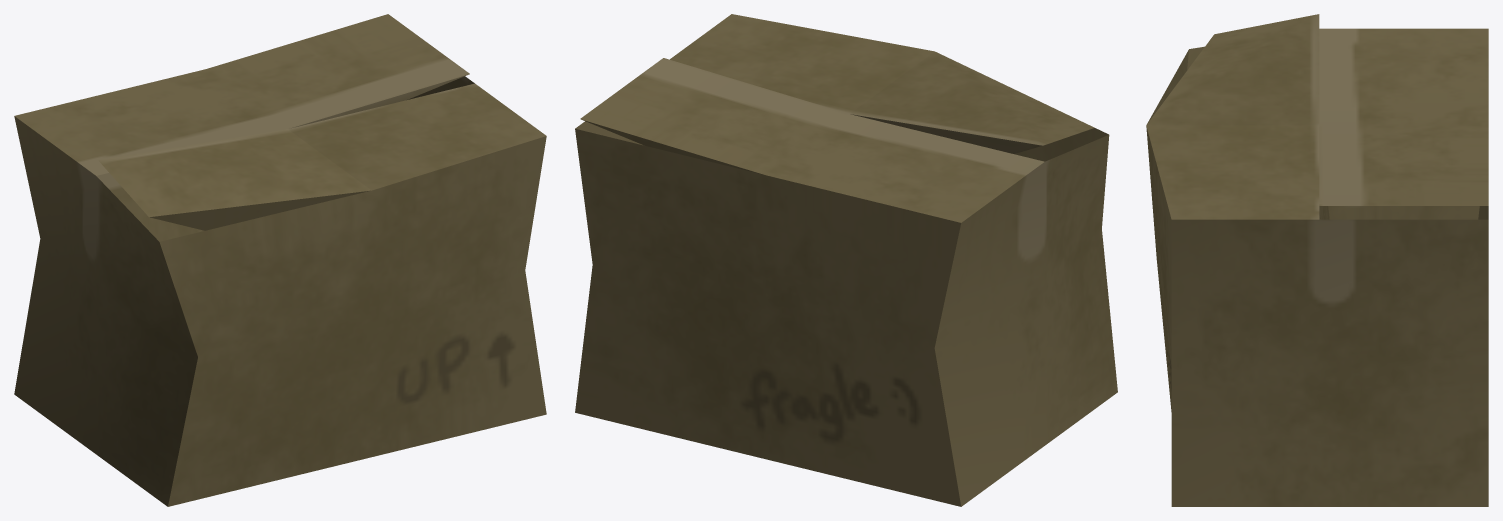
Rendered from cardboard box.fbx.
3 renders of one model, left to right at view 1: azimuth 30°, elevation 25°; view 2: azimuth 150°, elevation 25°; view 3: azimuth 270°, elevation 25°, orthographic. The views are drawn at different scales.
Parts seen in each view (by area): view 1: polySurface390; view 2: polySurface390; view 3: polySurface390.
Boxes of the visible parts, <box> form: polySurface390: <box>14,14,546,506</box>; polySurface390: <box>575,14,1117,506</box>; polySurface390: <box>1146,14,1488,506</box>.
Size of the model in its own units: 0.91 by 0.6744 by 0.6903.
Materials: 1 (1 with a texture image).
